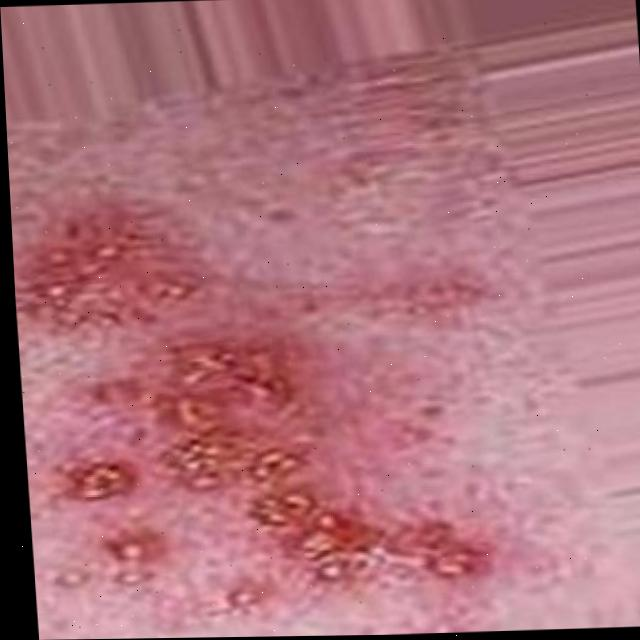Shingles: (29, 204, 514, 601)
